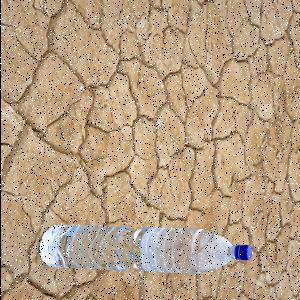Plastic-bottle: (39, 225, 253, 274)
